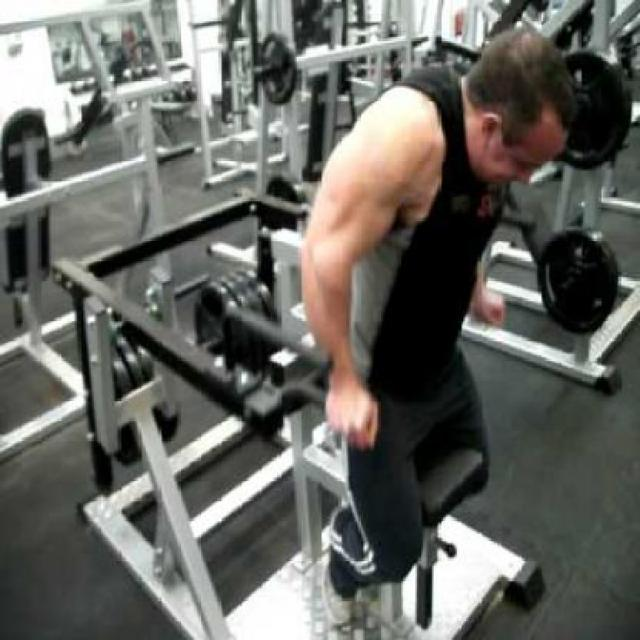seated dip machine: (51, 172, 544, 640)
